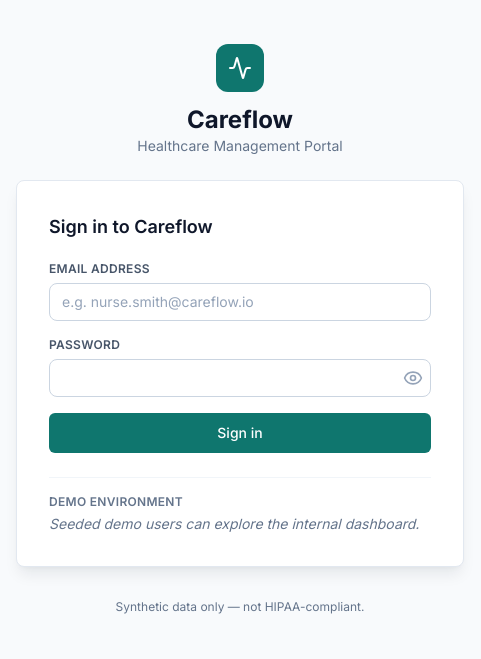
LoginPage › shows an error when login fails
Type "a@b.co" into the field labelled "Email address" at (240, 302), box x1=49 y1=282 x2=431 y2=320
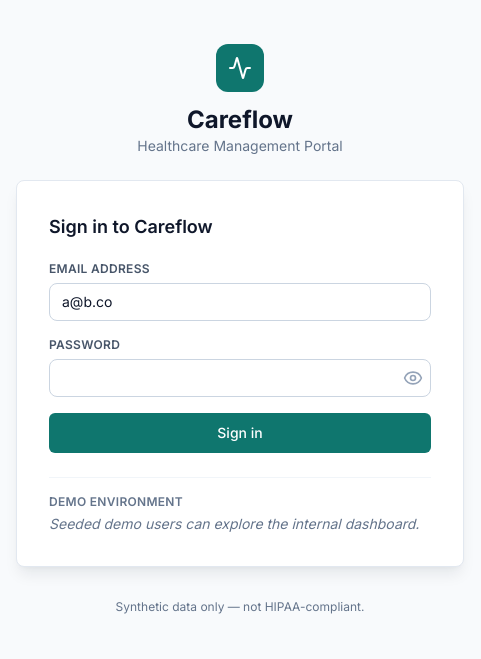
Type "wrong" into the password field labelled "Password" at (240, 378), box x1=49 y1=358 x2=431 y2=396
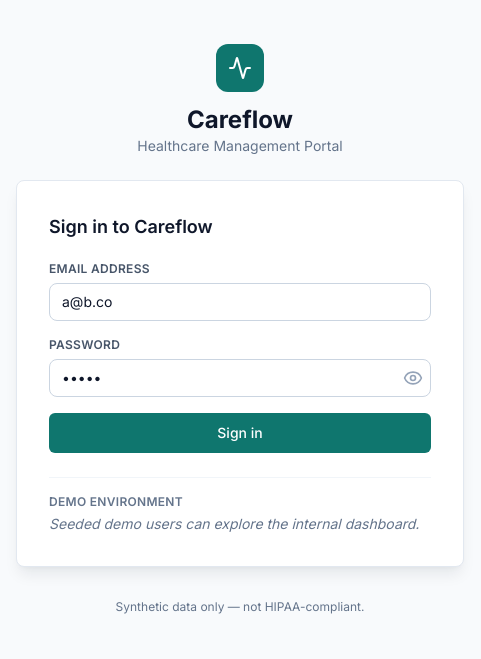
Click the button "Sign in" at (240, 432), box x1=49 y1=412 x2=431 y2=452
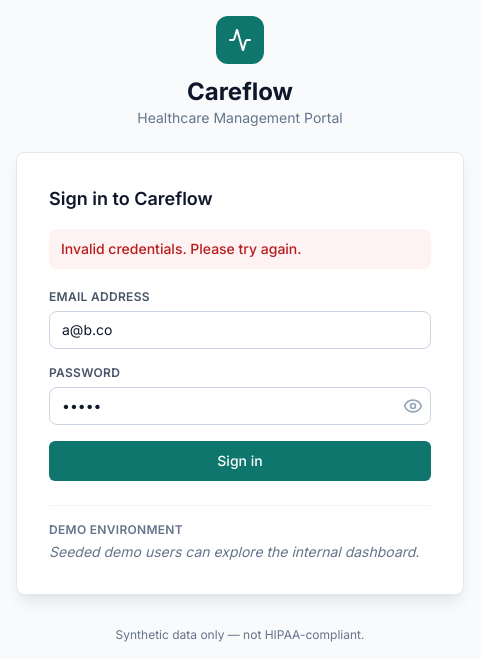
Check: the text "Invalid credentials. Please try again." is shown, box x1=49 y1=228 x2=431 y2=268
